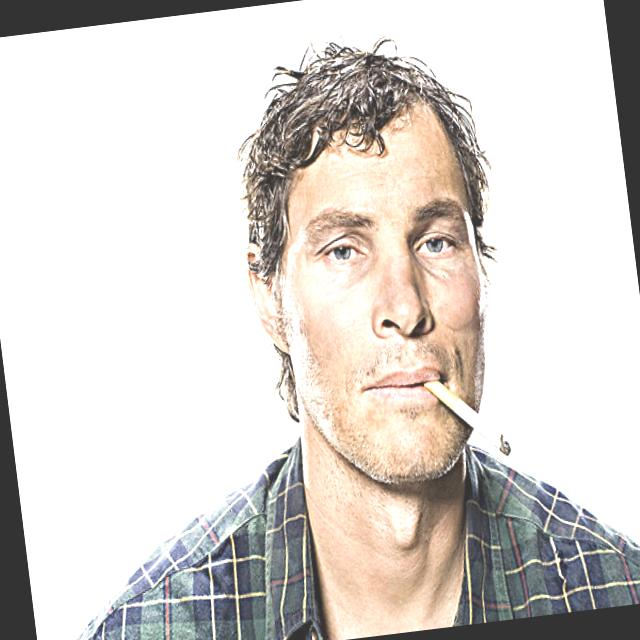smoke: (424, 358, 520, 474)
